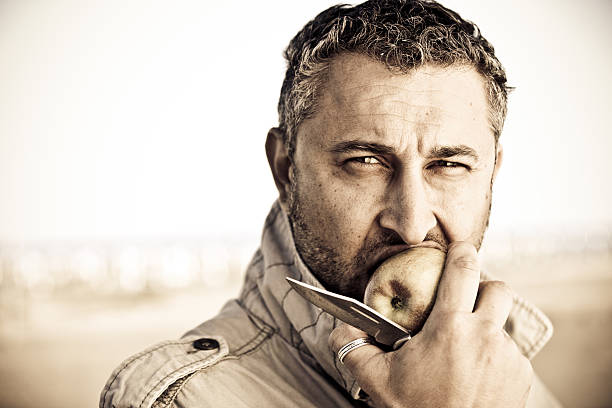knife: (286, 278, 411, 348)
